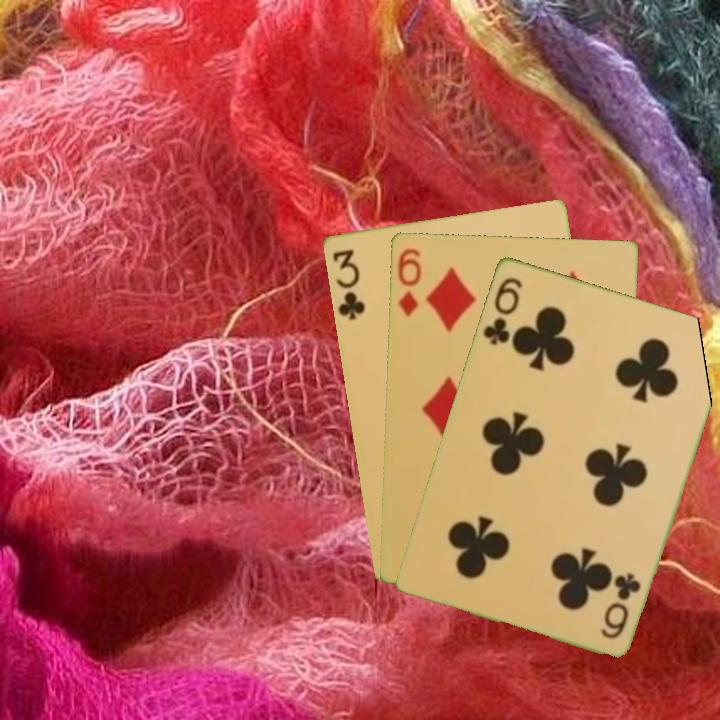3c: (328, 245, 368, 322)
6c: (479, 273, 525, 348), (598, 569, 644, 641)
6d: (393, 244, 424, 319)
